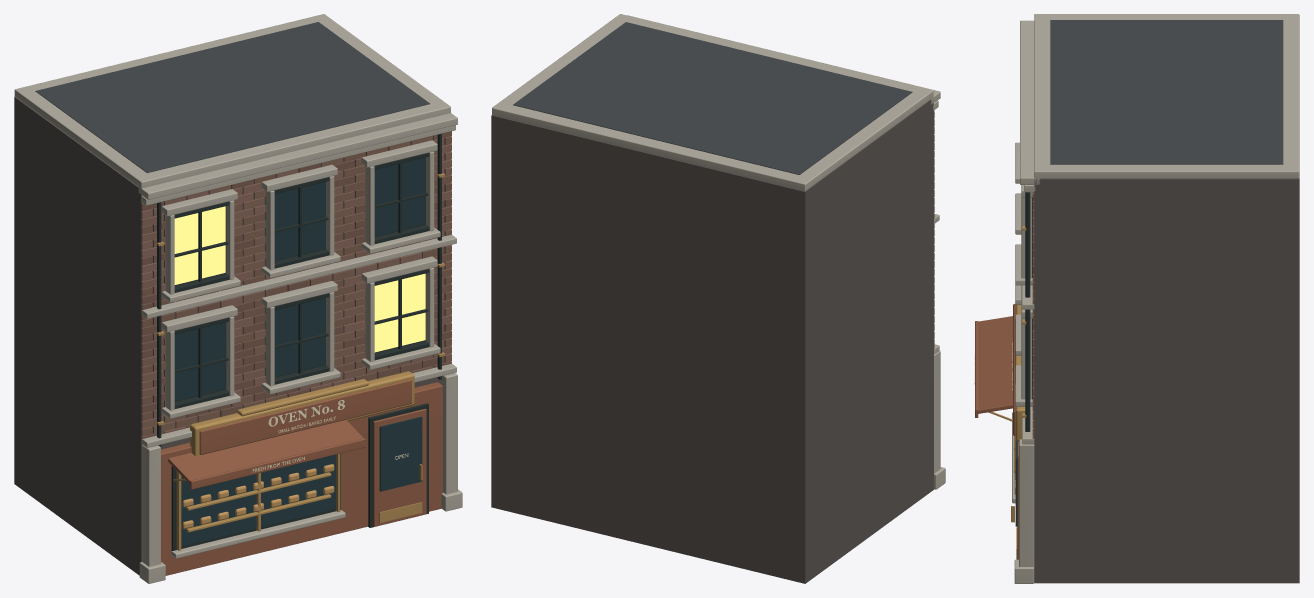
Rendered from district-oven-no-8.glb.
3 views of the same model, side by side, from view 1: azimuth 30°, elevation 25°; view 2: azimuth 150°, elevation 25°; view 3: azimuth 270°, elevation 25° (orthographic). The views are drawn at different scales.
Visible parts, largest first — view 1: Existing envelope, District Warm limestone, District Roof membrane, District Opaque dark glazing, District Coffee enamel, District Charcoal painted metal, Roof cap, District Brick tone 0, District Warm occupied window, District Brick tone 3, Sign enamel inset, District Brick tone 4 (+6 smaller); view 2: Existing envelope, District Roof membrane, Roof cap, District Warm limestone; view 3: Existing envelope, District Roof membrane, Roof cap, District Warm limestone, District Coffee enamel, District Charcoal painted metal, District Aged brass.
Part boxes in pixels (box(x1,y1,x2,y2)): Existing envelope: box(14, 96, 450, 575); District Warm limestone: box(138, 113, 462, 583); District Roof membrane: box(35, 22, 429, 172); District Opaque dark glazing: box(174, 157, 425, 546); District Coffee enamel: box(161, 382, 442, 575); District Charcoal painted metal: box(157, 133, 441, 550); Roof cap: box(14, 14, 450, 188); District Brick tone 0: box(141, 160, 451, 438); District Warm occupied window: box(174, 206, 425, 352); District Brick tone 3: box(141, 136, 451, 433); Sign enamel inset: box(199, 379, 411, 454); District Brick tone 4: box(141, 144, 451, 433); Existing envelope: box(491, 100, 933, 583); District Roof membrane: box(513, 22, 912, 174); Roof cap: box(492, 14, 933, 191); District Warm limestone: box(627, 15, 945, 489); Existing envelope: box(1034, 178, 1299, 583); District Roof membrane: box(1050, 20, 1283, 164); Roof cap: box(1034, 14, 1299, 178); District Warm limestone: box(1012, 20, 1040, 583); District Coffee enamel: box(975, 316, 1012, 417); District Charcoal painted metal: box(1025, 192, 1032, 431); District Aged brass: box(988, 226, 1026, 559).
Bounding box in the file's own units: 7.71 × 9.26 × 6.62.
